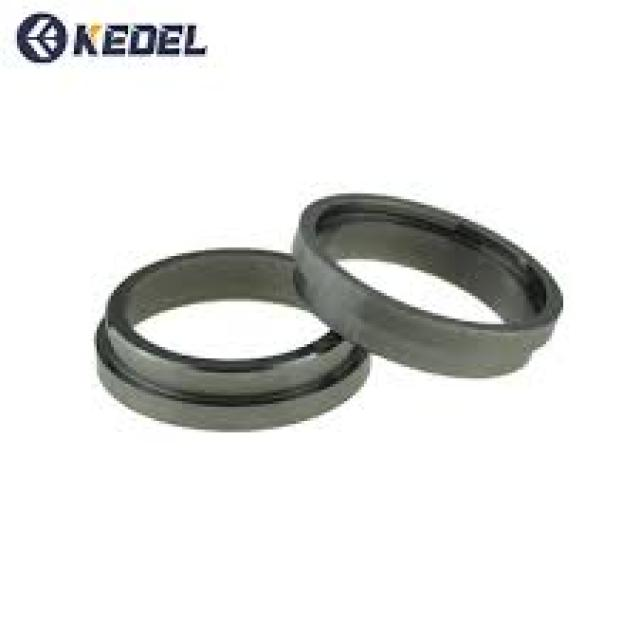Turning: (44, 209, 407, 472), (291, 155, 585, 419)
